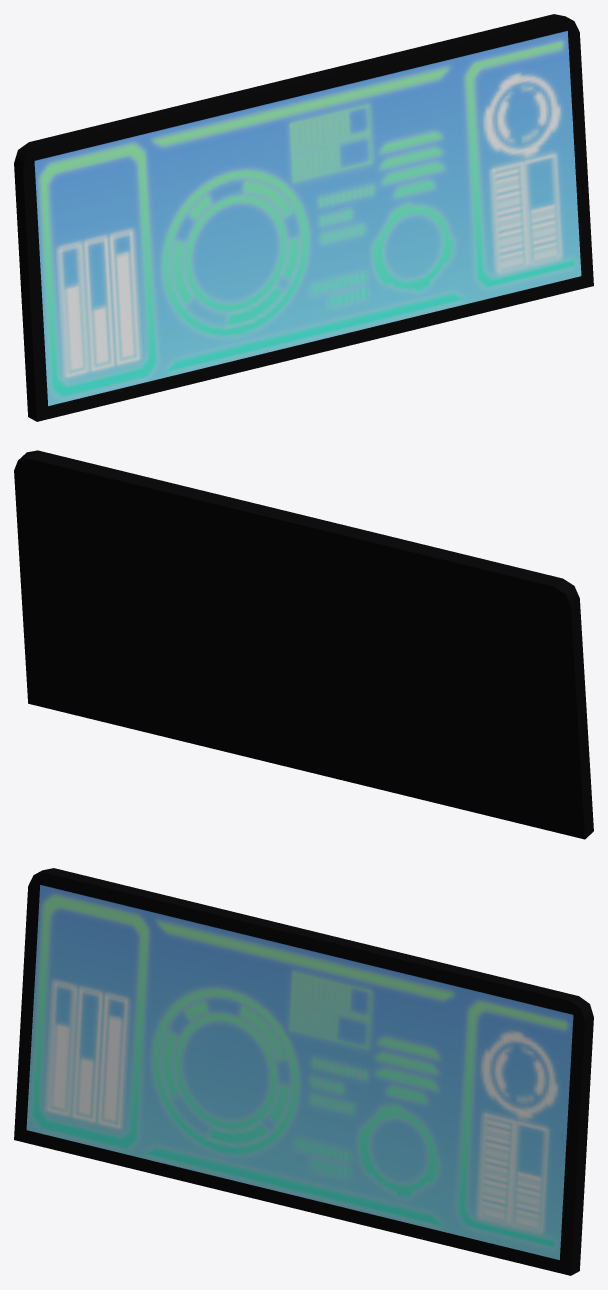
The model's file is Terminal_017_monitor_001.fbx.
3 views of the same model, one above another, from view 1: azimuth 30°, elevation 25°; view 2: azimuth 150°, elevation 25°; view 3: azimuth 330°, elevation 25° (orthographic).
Visible parts, largest first — view 1: Terminal_017_monitor_001; view 2: Terminal_017_monitor_001; view 3: Terminal_017_monitor_001.
Part boxes in pixels (<box>): Terminal_017_monitor_001: <box>14,14,593,421</box>; Terminal_017_monitor_001: <box>14,450,593,839</box>; Terminal_017_monitor_001: <box>14,868,593,1275</box>.
Size of the model in its own units: 96.98 by 7.25 by 43.54.
